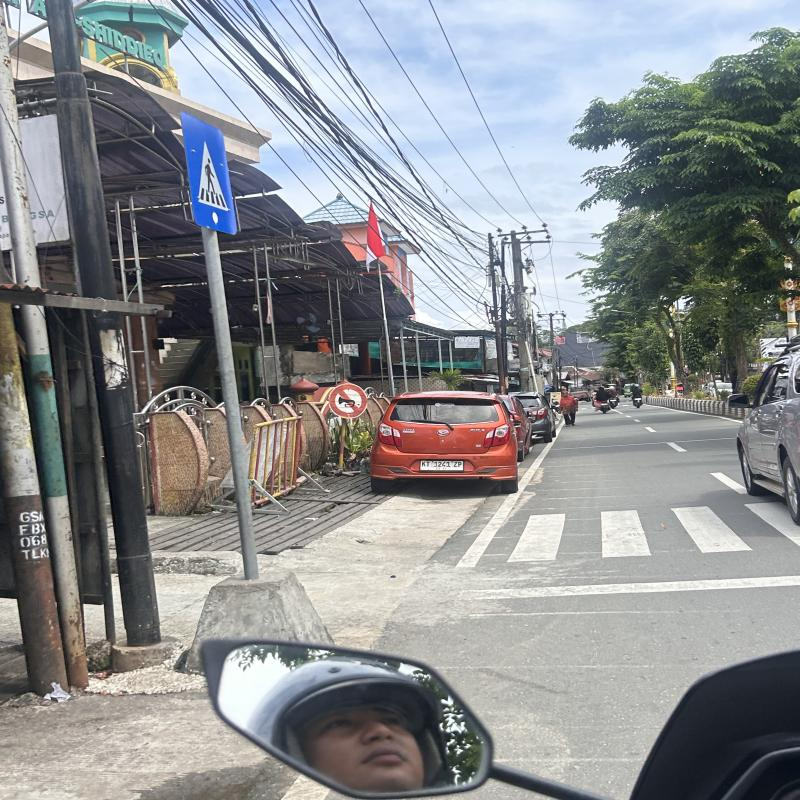license plate on a car: (420, 460, 464, 471)
